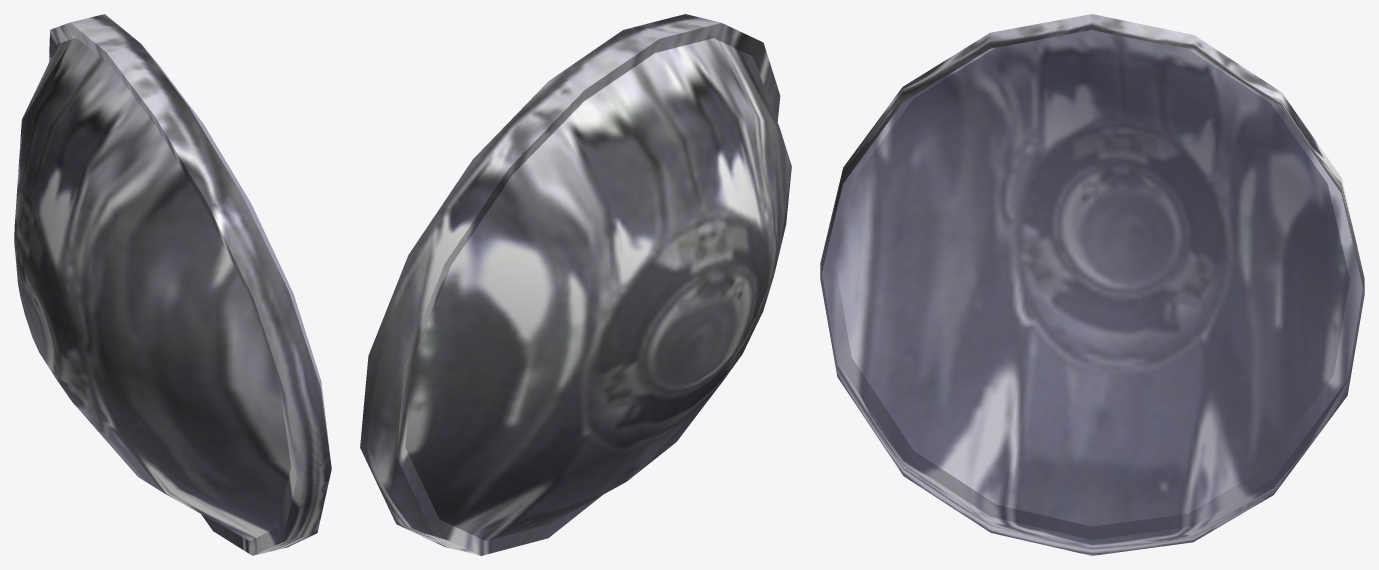
The picture shows the model from 3 angles, left to right: view 1: azimuth 30°, elevation 25°; view 2: azimuth 150°, elevation 25°; view 3: azimuth 270°, elevation 25°; orthographic projection. The views are drawn at different scales.
Visible parts, largest first — view 1: J725_061B_R_J725_061B_R_1_N, J725_061B_R_3_DTaSI_J725_061B_R; view 2: J725_061B_R_J725_061B_R_1_N; view 3: J725_061B_R_J725_061B_R_1_N, J725_061B_R_3_DTaSI_J725_061B_R.
Boxes of the visible parts, left/top/right/bottom form: J725_061B_R_J725_061B_R_1_N: left=14, top=14, right=331, bottom=555; J725_061B_R_3_DTaSI_J725_061B_R: left=145, top=49, right=330, bottom=461; J725_061B_R_J725_061B_R_1_N: left=360, top=14, right=791, bottom=555; J725_061B_R_J725_061B_R_1_N: left=820, top=14, right=1364, bottom=555; J725_061B_R_3_DTaSI_J725_061B_R: left=820, top=30, right=1364, bottom=555.
Bounding box in the file's own units: 15.92 × 31.76 × 32.85.
